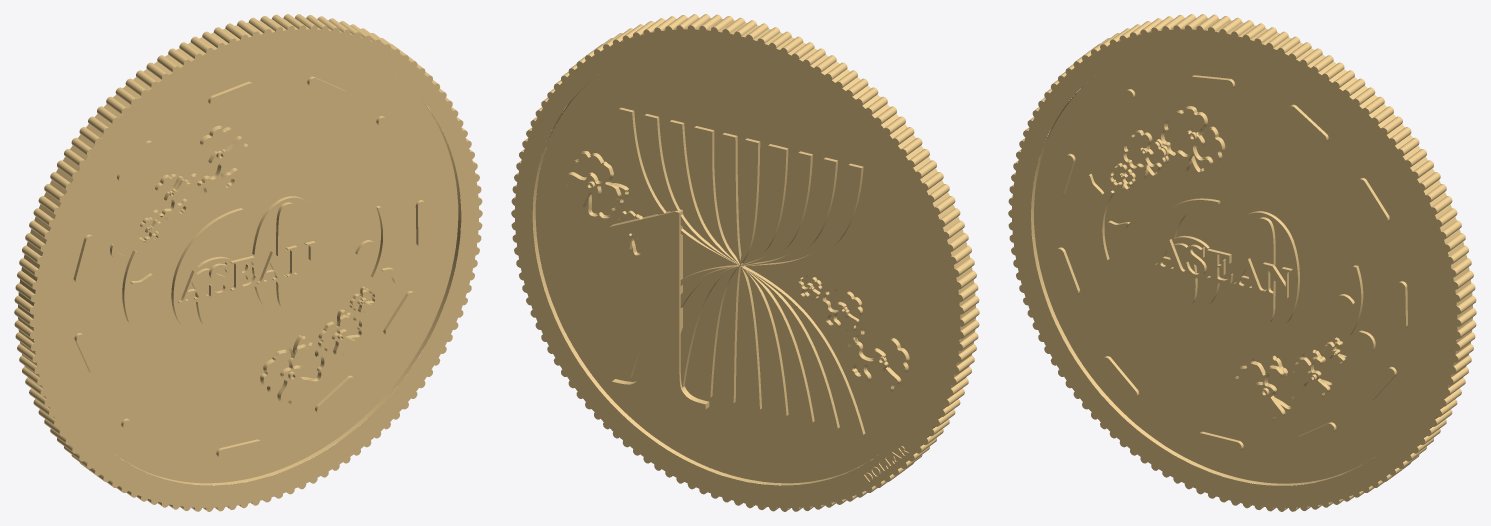
Rendered from smallercoin (1).glb.
3 renders of one model, left to right at view 1: azimuth 30°, elevation 25°; view 2: azimuth 150°, elevation 25°; view 3: azimuth 330°, elevation 25°, orthographic.
Size of the model in its own units: 0.0204 by 0.0204 by 0.00157.
